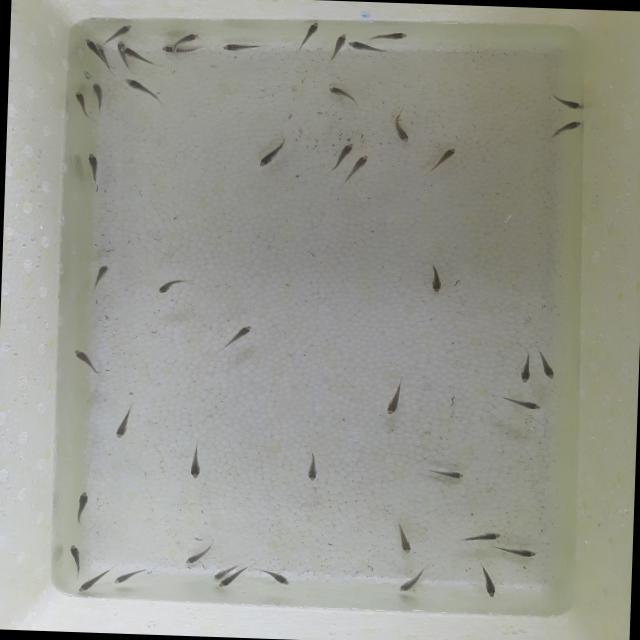fingerling: (211, 321, 267, 348), (421, 145, 465, 179), (491, 392, 548, 412), (73, 346, 106, 378), (380, 377, 406, 417), (82, 146, 106, 188), (544, 115, 586, 139), (418, 263, 450, 294), (296, 448, 324, 483), (250, 566, 294, 588), (256, 138, 286, 170), (342, 152, 370, 186), (113, 403, 136, 444), (328, 138, 354, 174), (476, 562, 499, 602), (318, 83, 359, 105), (388, 527, 416, 558), (75, 568, 106, 596), (389, 107, 414, 141), (535, 352, 561, 382), (155, 274, 186, 298), (186, 442, 205, 481), (518, 346, 537, 384), (464, 528, 509, 544), (89, 261, 112, 292), (324, 33, 349, 61), (544, 94, 587, 110), (300, 20, 322, 51), (398, 566, 422, 594), (121, 79, 158, 97), (430, 464, 468, 481), (493, 547, 541, 560), (108, 20, 134, 42), (65, 542, 85, 570), (345, 40, 388, 53), (113, 568, 143, 586), (70, 87, 90, 114), (221, 42, 265, 53), (219, 574, 243, 593), (75, 491, 88, 526), (90, 80, 106, 107), (373, 32, 413, 42), (182, 548, 203, 566), (158, 46, 201, 54), (171, 32, 205, 42), (210, 566, 227, 582), (80, 38, 96, 54), (120, 45, 140, 55)
